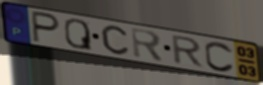C: (204, 40, 236, 74), (100, 24, 131, 56)
P: (30, 10, 62, 46)
Q: (63, 18, 94, 52)
R: (130, 26, 166, 65), (171, 34, 206, 69)
